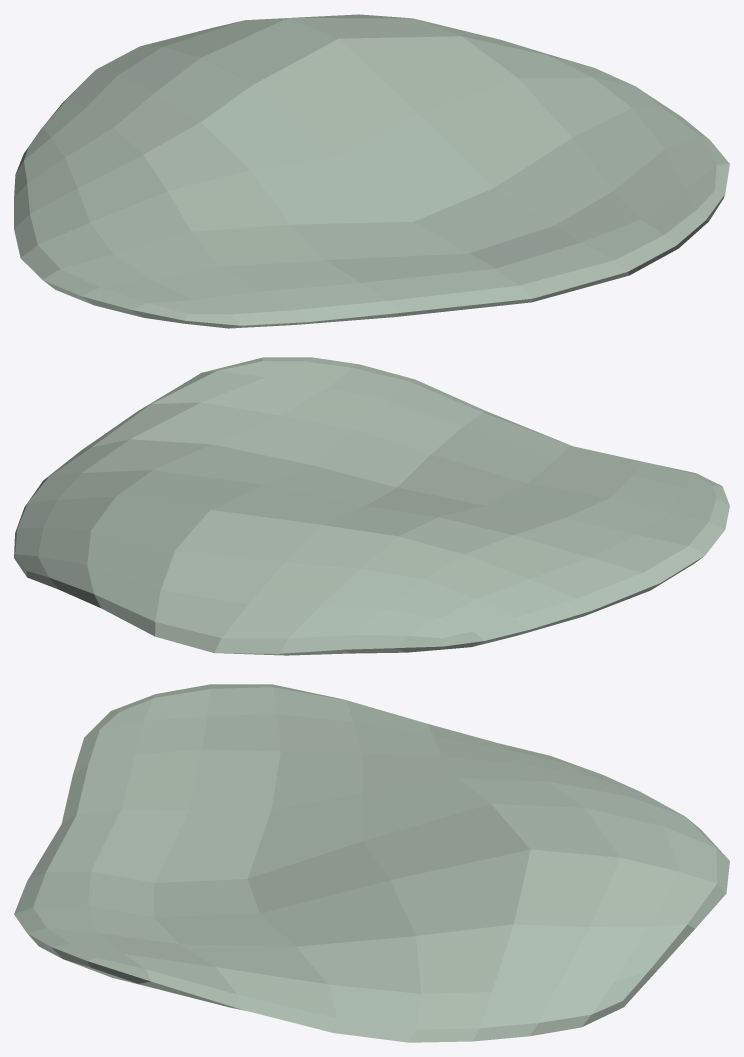
File: Coral_platform_013.glb
The picture shows the model from 3 angles, top to bottom: view 1: azimuth 30°, elevation 25°; view 2: azimuth 150°, elevation 25°; view 3: azimuth 270°, elevation 25°; orthographic projection. The views are drawn at different scales.
Visible parts, largest first — view 1: Coral_platform_013; view 2: Coral_platform_013; view 3: Coral_platform_013.
Part boxes in pixels (x1,y1,x2,y2): Coral_platform_013: (14, 14, 729, 328); Coral_platform_013: (14, 357, 729, 655); Coral_platform_013: (14, 684, 729, 1042).
Size of the model in its own units: 1.94 by 0.3268 by 1.79.
Materials: 1 (1 with a texture image).
